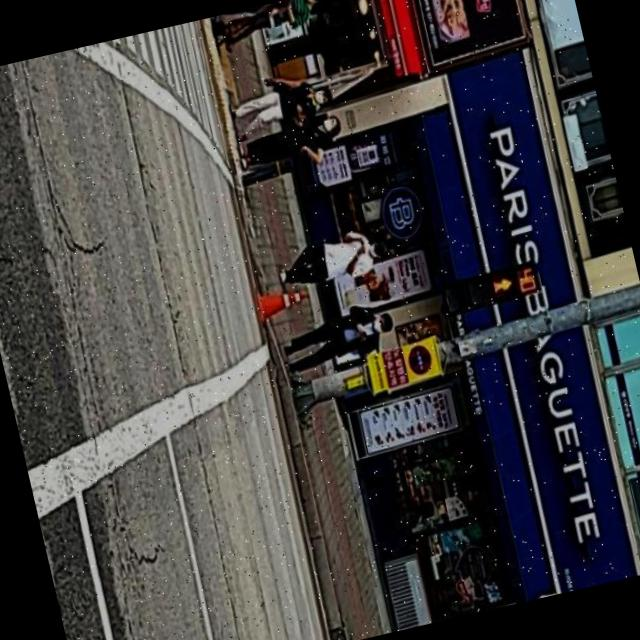red_light: (489, 260, 544, 301)
